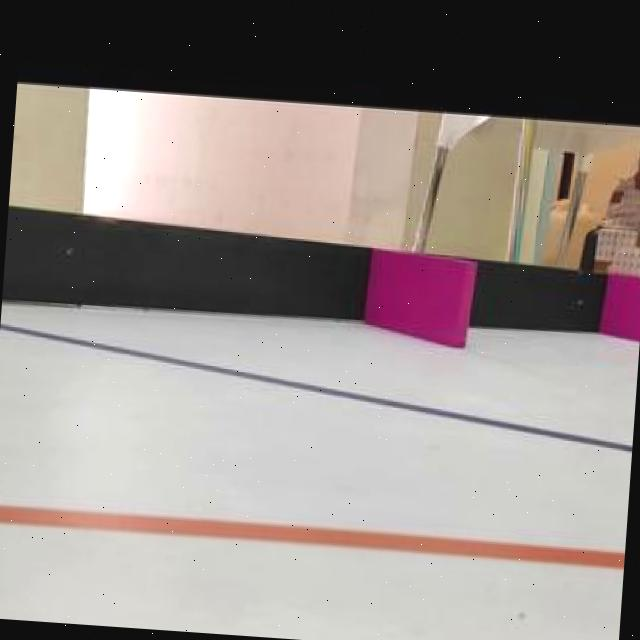xparking: (368, 250, 473, 334), (607, 274, 640, 336)
